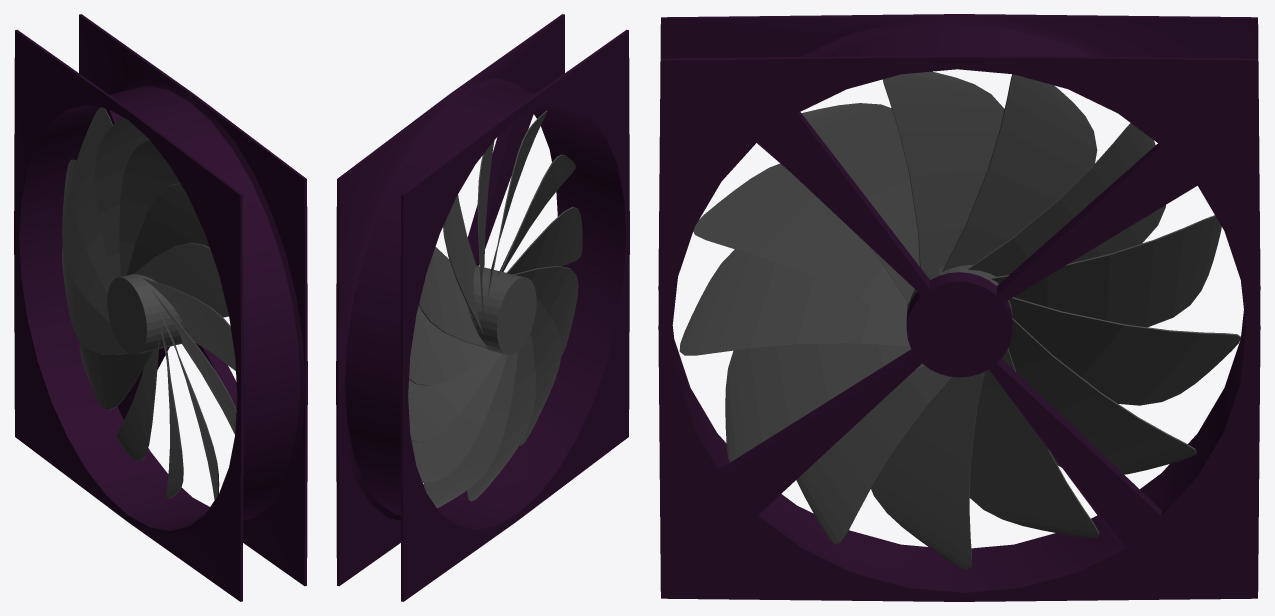
File: DEEPER COOL.fbx
The picture shows the model from 3 angles, left to right: view 1: azimuth 30°, elevation 25°; view 2: azimuth 150°, elevation 25°; view 3: azimuth 270°, elevation 25°; orthographic projection. The views are drawn at different scales.
Parts seen in each view (by area): view 1: Cylinder.002, Cylinder.001; view 2: Cylinder.002, Cylinder.001; view 3: Cylinder.002, Cylinder.001.
Boxes of the visible parts, bbox=[...] form: Cylinder.002: bbox=[14, 14, 307, 601]; Cylinder.001: bbox=[62, 107, 236, 499]; Cylinder.002: bbox=[336, 14, 629, 601]; Cylinder.001: bbox=[408, 110, 582, 508]; Cylinder.002: bbox=[658, 14, 1260, 601]; Cylinder.001: bbox=[679, 71, 1241, 569].
Size of the model in its own units: 4.17 by 24.39 by 24.39.
